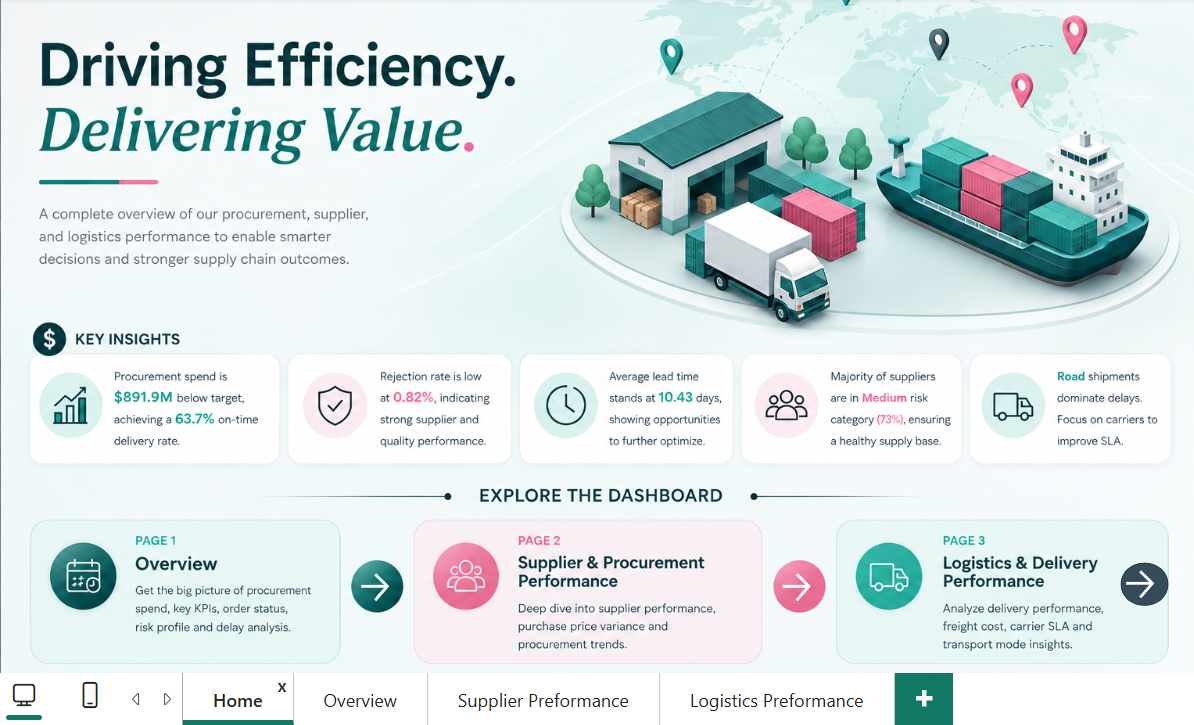

Layout of this report page (visuals, bound fields, positions):
{"tool":"powerbi","page":{"name":"Home","canvas":[1280,720],"ordinal":0},"visuals":[{"type":"shape","box":[1193.5,602.3,51.1,46.3],"z":0},{"type":"actionButton","box":[378.6,608.7,62.3,39.9],"z":1000},{"type":"actionButton","box":[827.6,608.7,62.3,39.9],"z":2000},{"type":"actionButton","box":[1193.5,605.5,62.3,39.9],"z":3000}]}

Visuals, with their boxes on the page's 1280x720 design canvas (x1, y1, x2, y2). These are canvas units, not pixel positions in the 1194x725 screenshot, which may show the page scaled, cropped or inside an application window:
shape: pyautogui.locateOnScreen(1194, 602, 1245, 649)
actionButton: pyautogui.locateOnScreen(379, 609, 441, 649)
actionButton: pyautogui.locateOnScreen(828, 609, 890, 649)
actionButton: pyautogui.locateOnScreen(1194, 606, 1256, 645)
